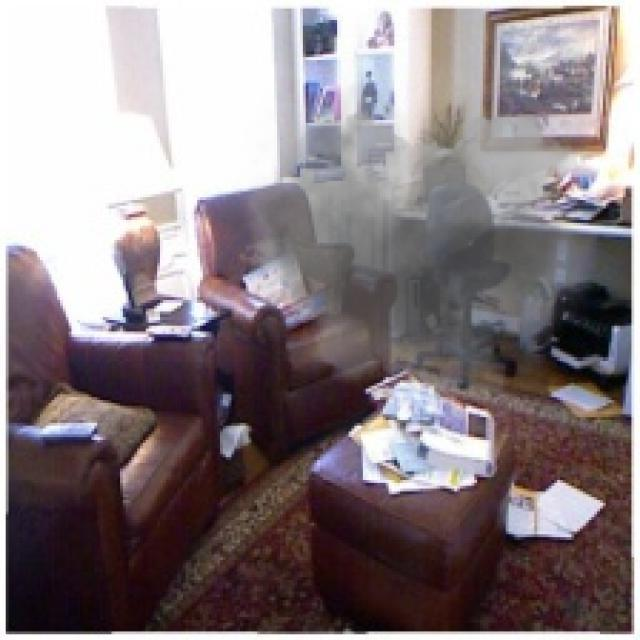Smoke: (225, 34, 600, 420)
